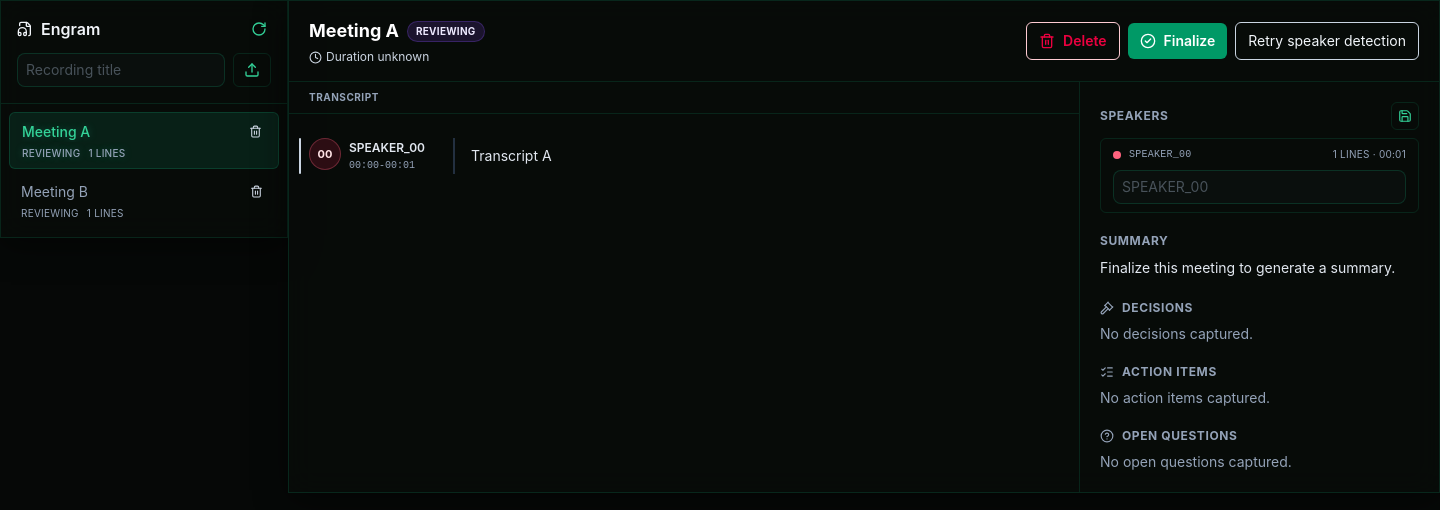
ignores a speaker-save response after switching away and back
Expected: the heading "Meeting A" is shown, [309,17,399,45]
Click the button titled "Save speaker names" at (1405, 116), box [1391,102,1419,130]
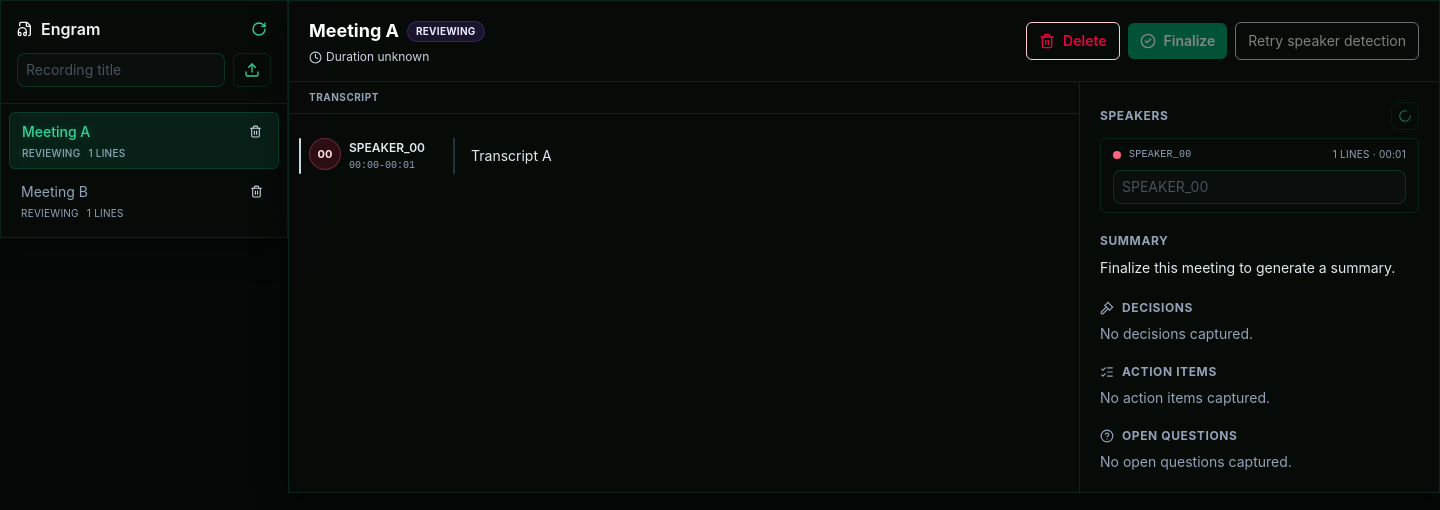
Click the button "Meeting B reviewing 1 lines" at (54, 191), box [9,173,279,229]
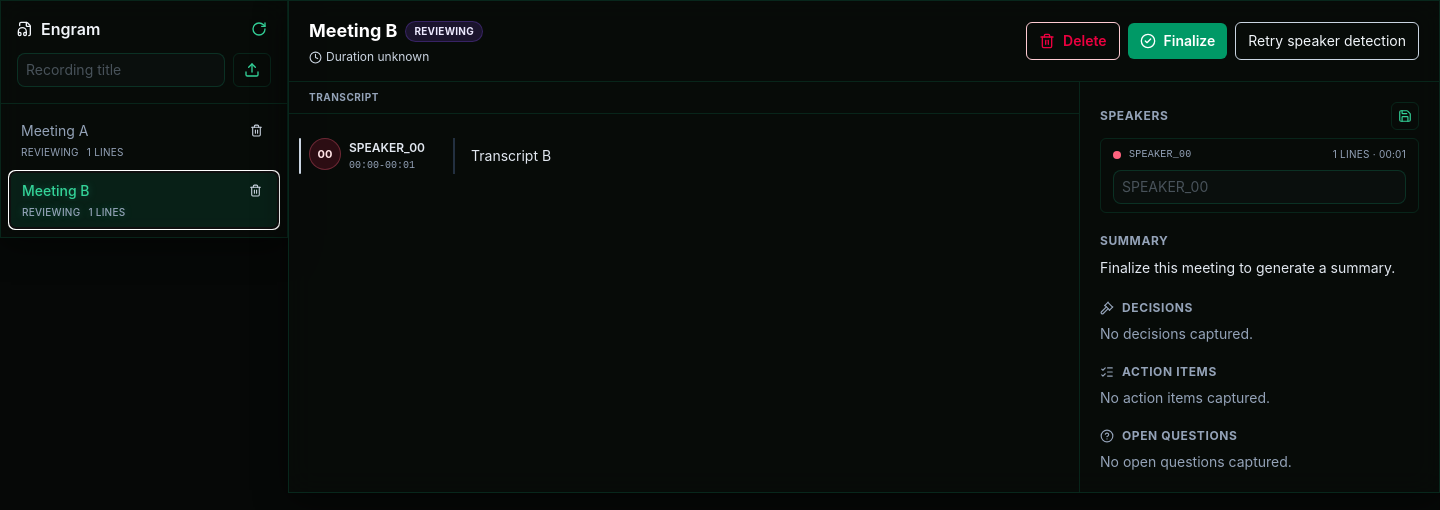
Expected: the heading "Meeting B" is shown, [309,17,397,45]
Click the button "Meeting A reviewing 1 lines" at (55, 130), box [9,112,279,167]
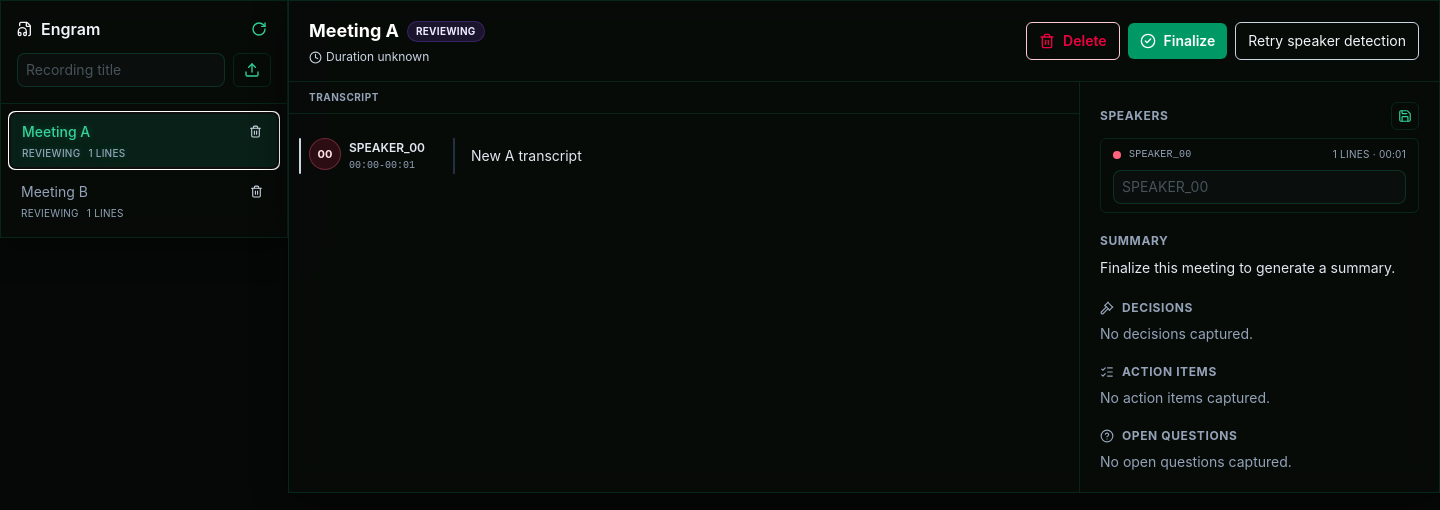
Expected: the text "Transcript A" is not shown
Expected: the button titled "Save speaker names" is enabled, [1391,102,1419,130]
Expected: the text "New A transcript" is shown, [471,147,582,164]
